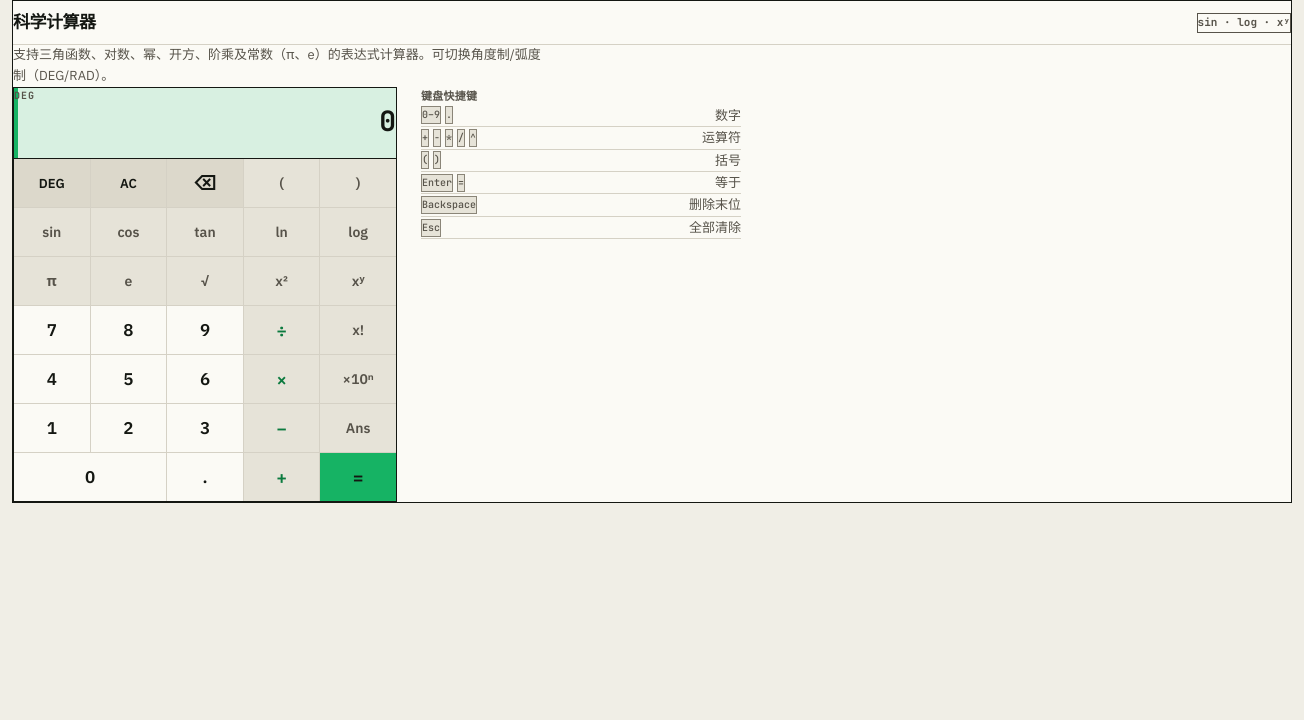
Test: ScientificCalc › evaluates sin(30) = 0.5 in DEG mode (default)
The width and height of the screenshot is (1304, 720).
Click the button "sin".
click(52, 232)  # box [14,208,90,256]
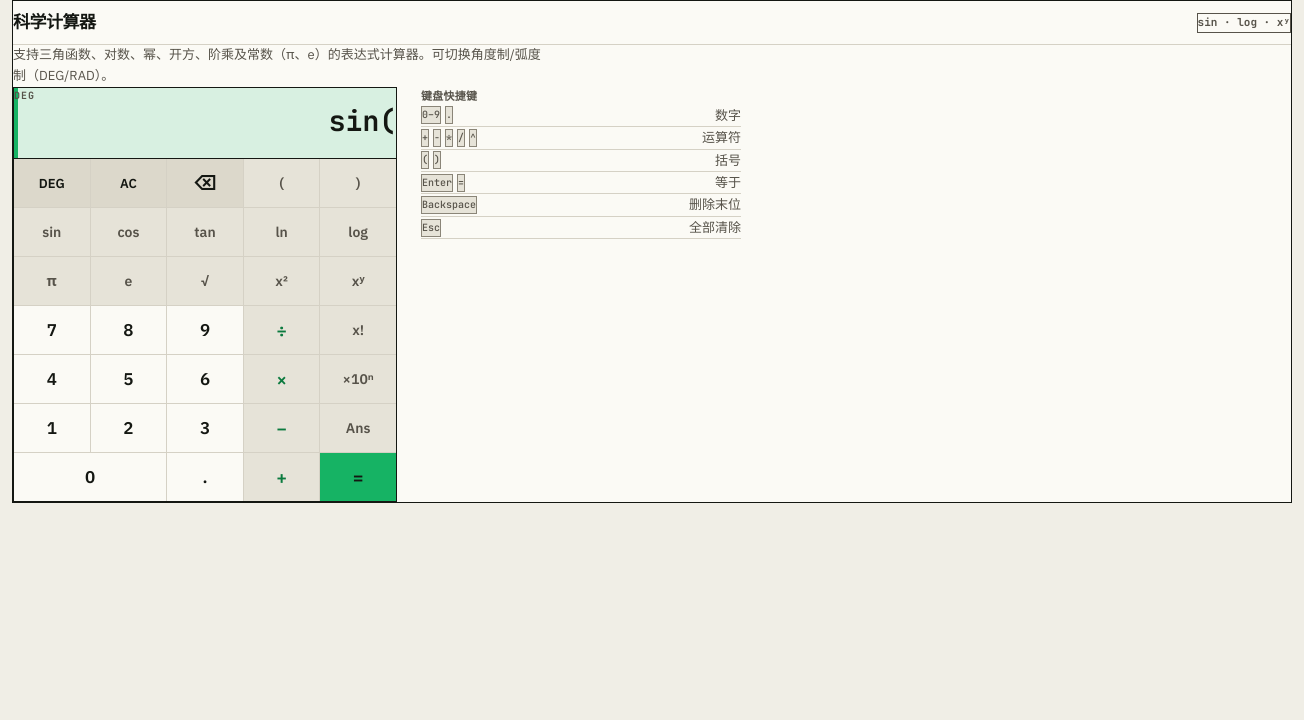
Click the button "3".
click(205, 428)  # box [167,404,243,452]
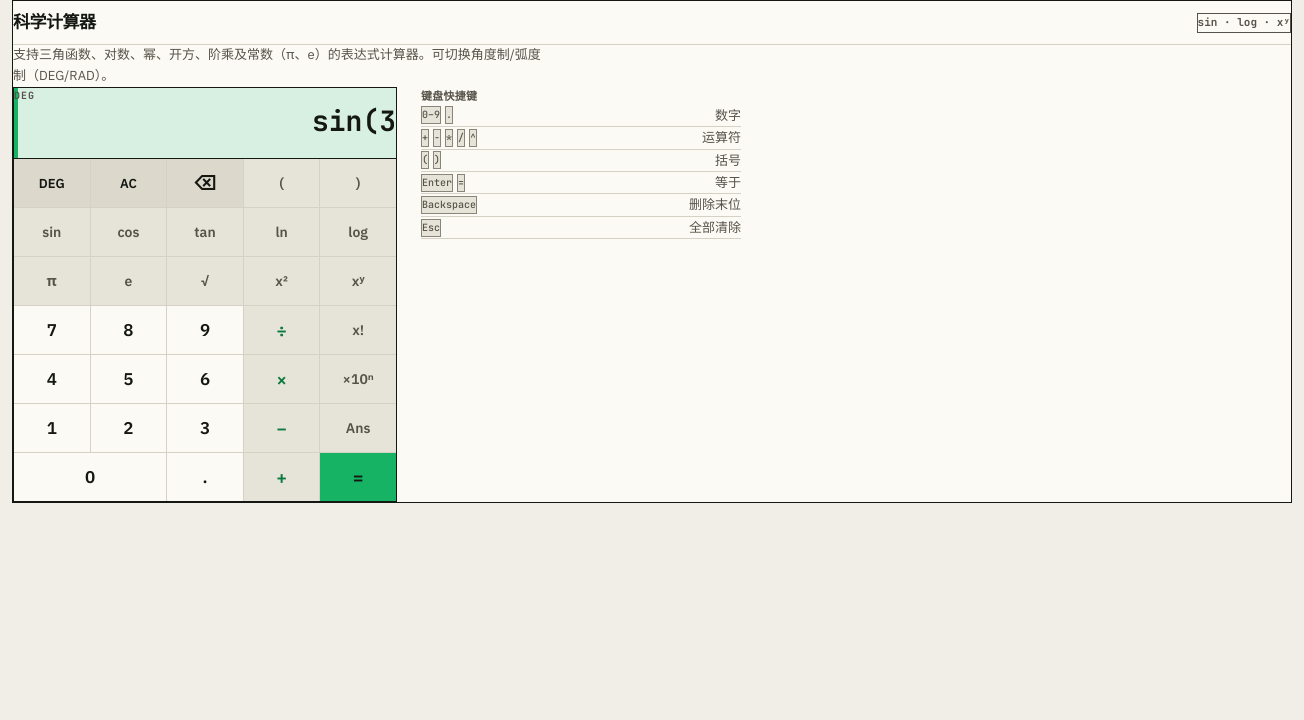
Click the button "0".
click(90, 478)  # box [14,454,166,502]
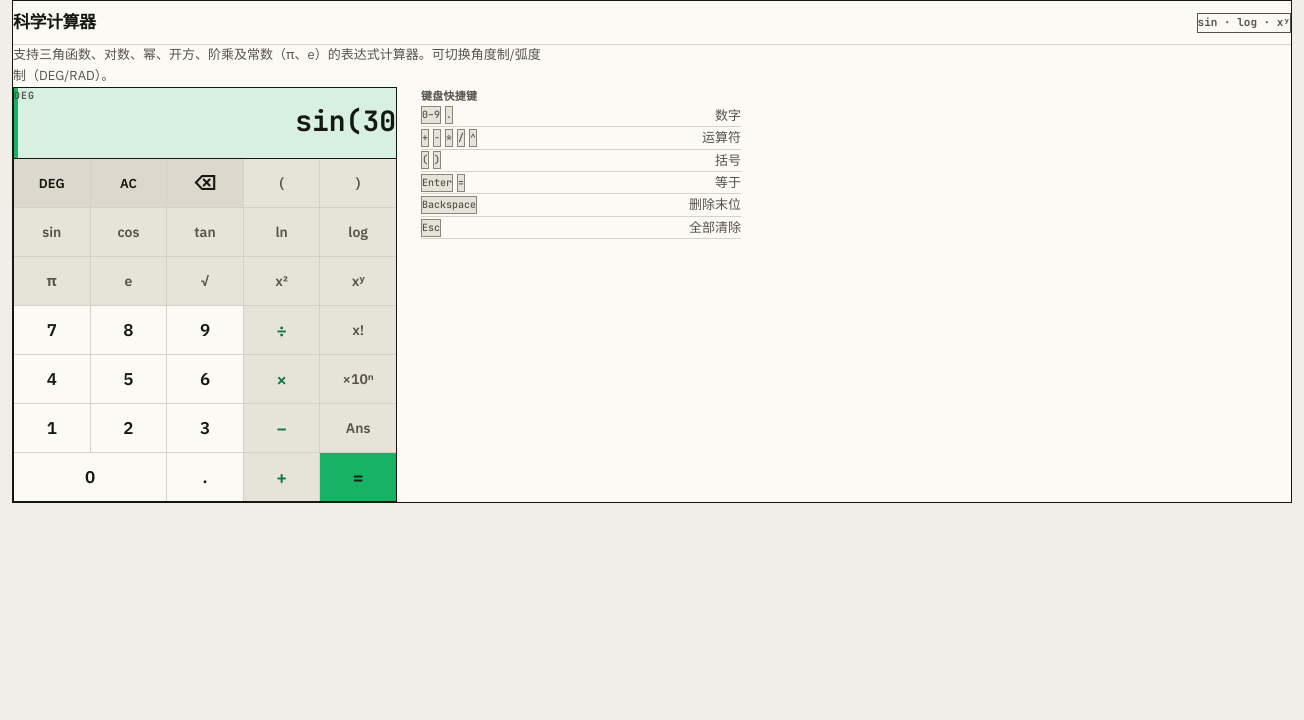
Click the button ")".
click(358, 184)  # box [320,160,396,208]
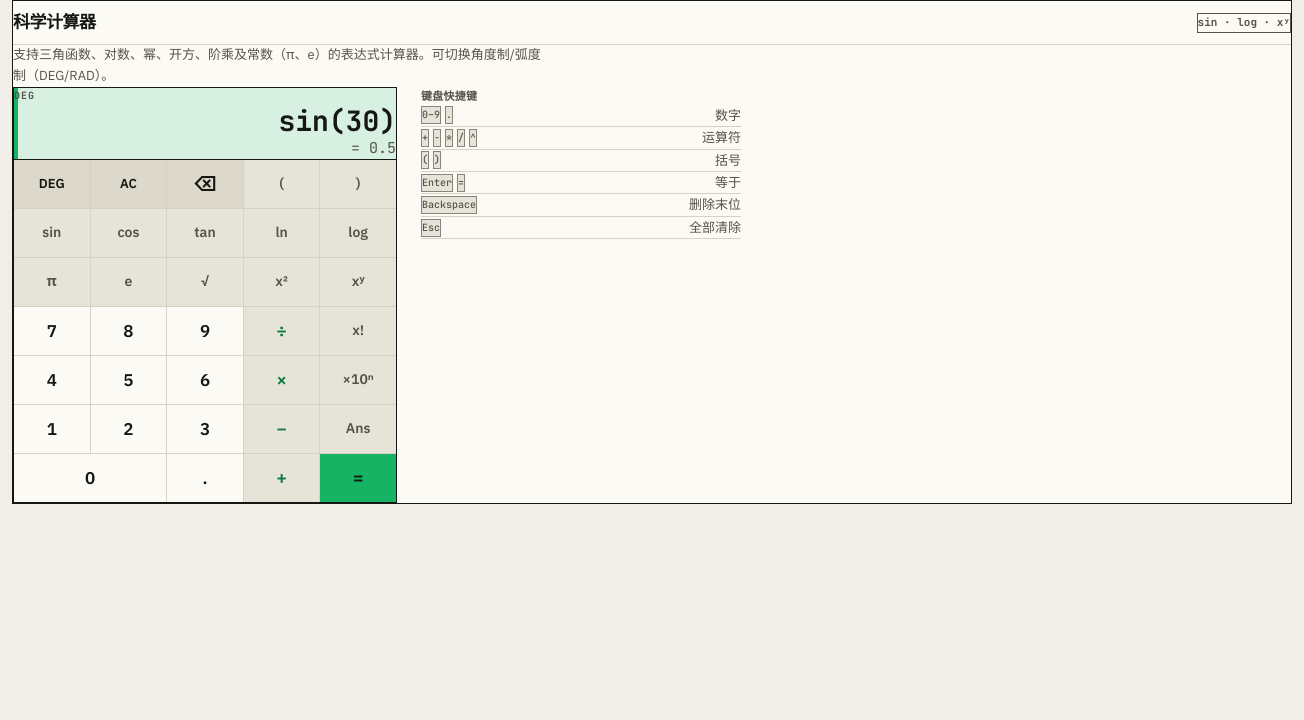
Click the button named "equals".
click(358, 478)  # box [320,454,396,502]
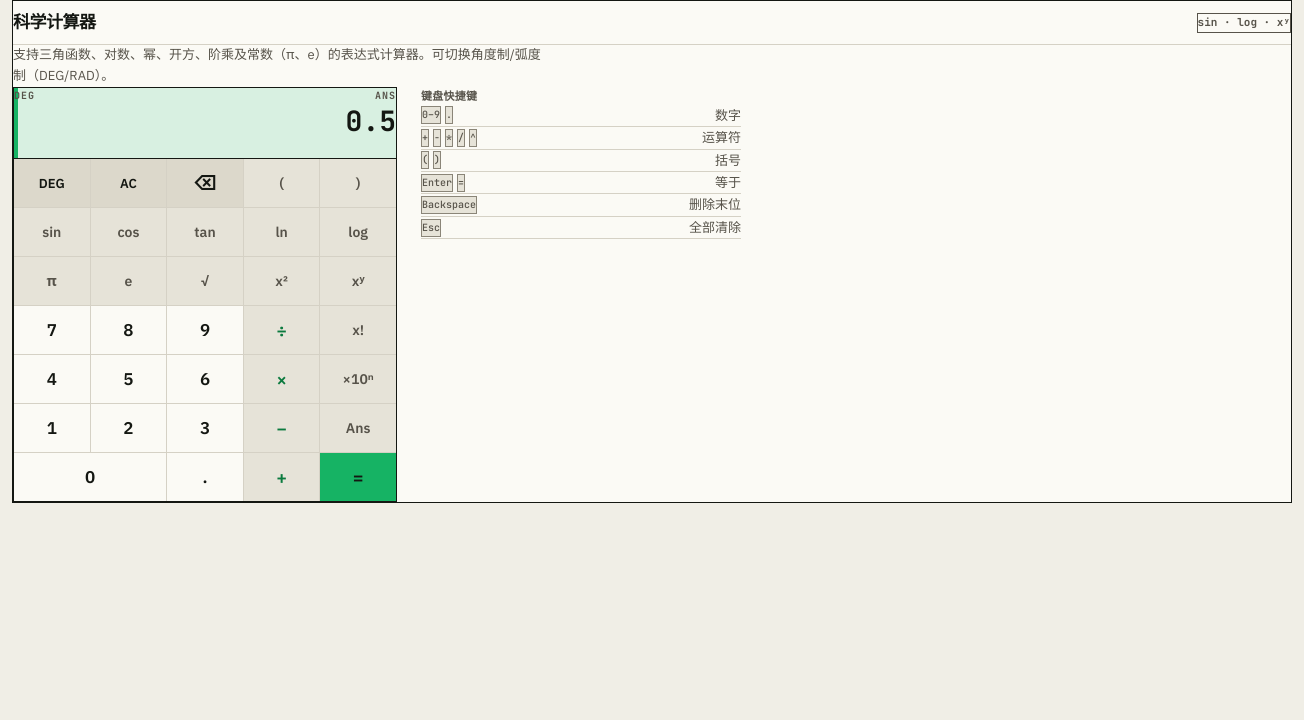
Check: the text "0.5" is shown, box [346,102,396,139]
